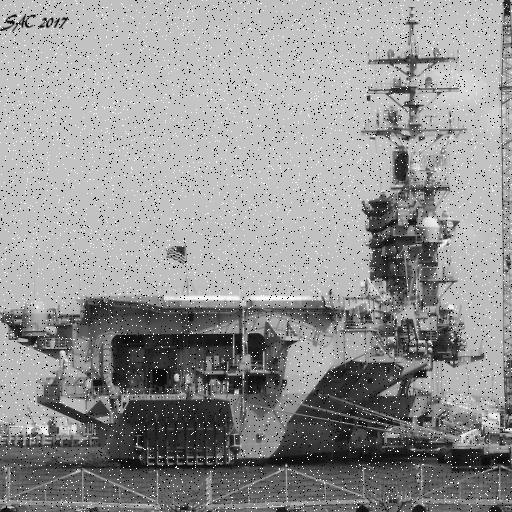Portanaves: (1, 4, 489, 472)
